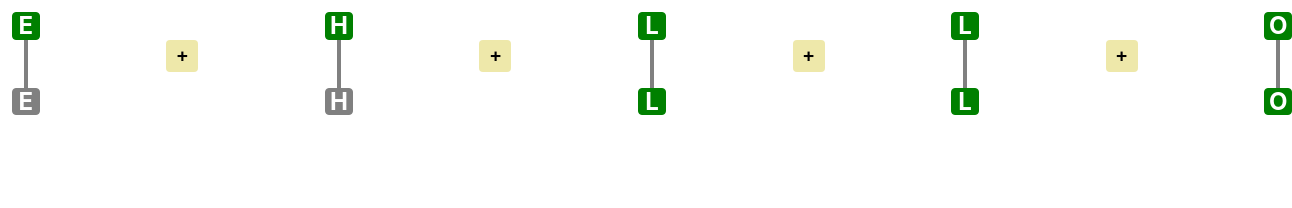
Test: Solving the anagram shows a message
Click the button with test id "button-1": click(182, 56) left=166, top=40, right=198, bottom=72
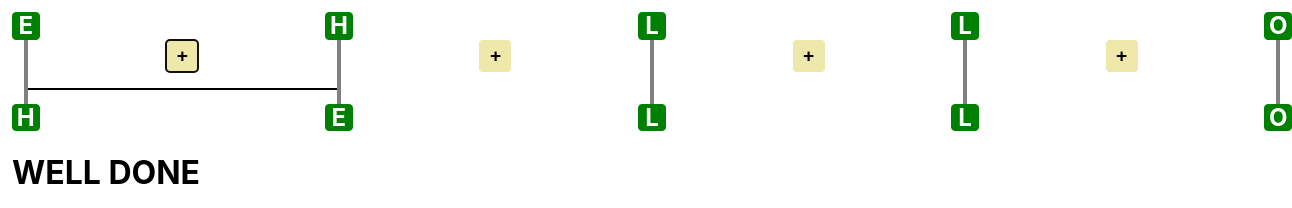
Check: the heading "WELL DONE" is shown, box left=12, top=153, right=200, bottom=192
